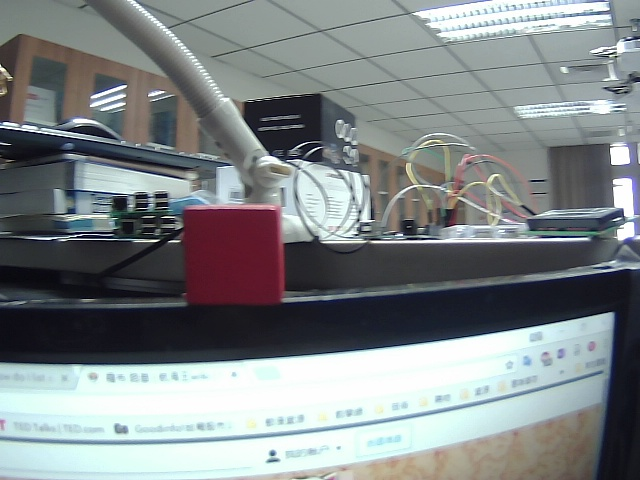redbox: (176, 197, 294, 315)
